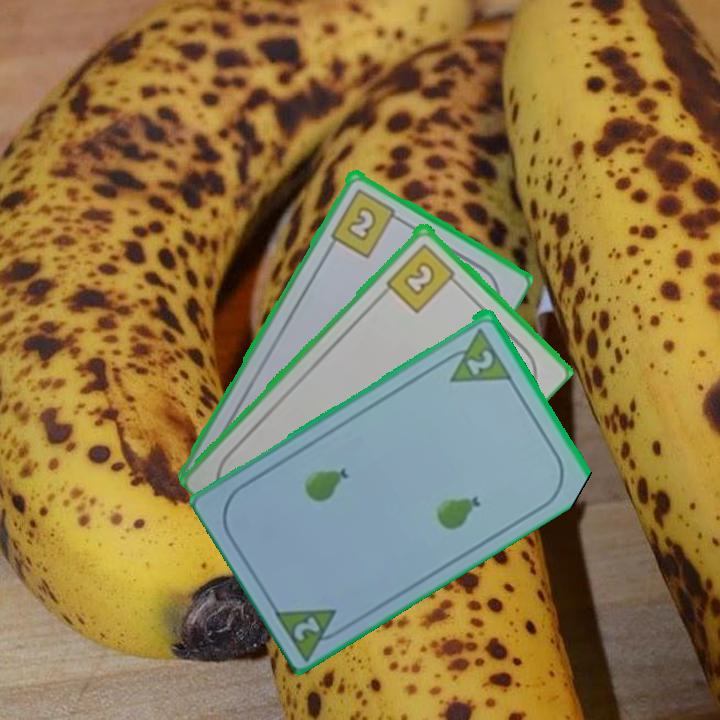2b: (382, 239, 463, 315), (327, 184, 405, 260)
2p: (436, 323, 514, 386), (270, 603, 352, 661)
